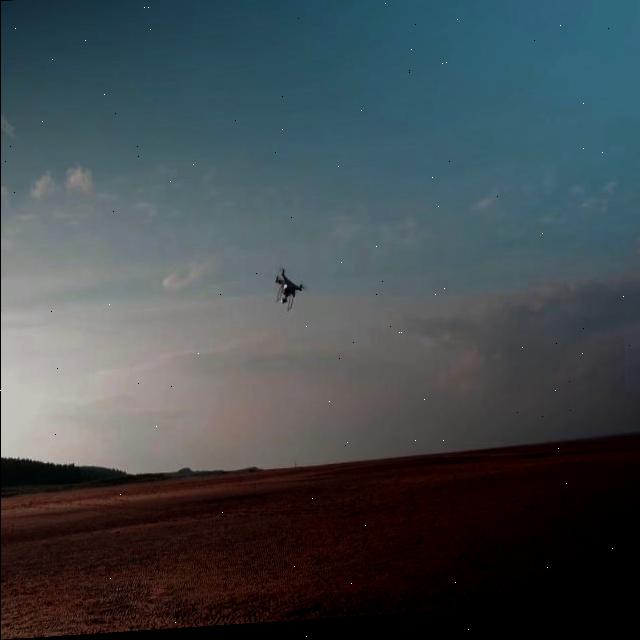drone: (271, 265, 303, 315)
